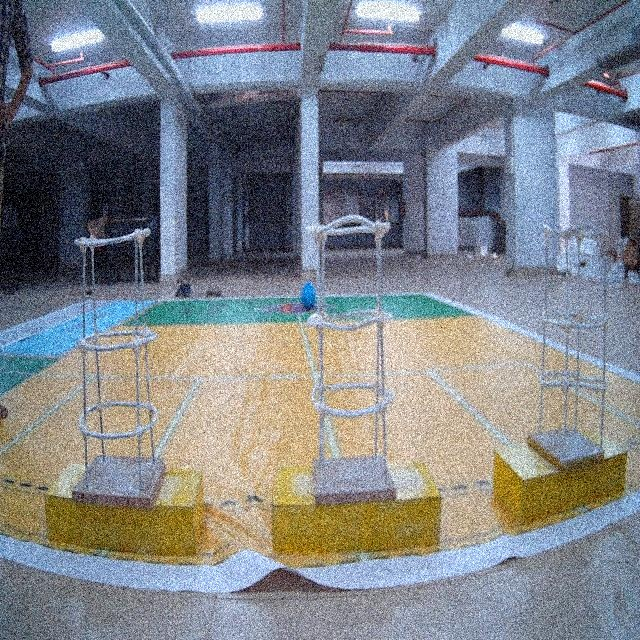silo: (295, 199, 407, 507), (68, 214, 166, 510), (529, 202, 619, 481)
